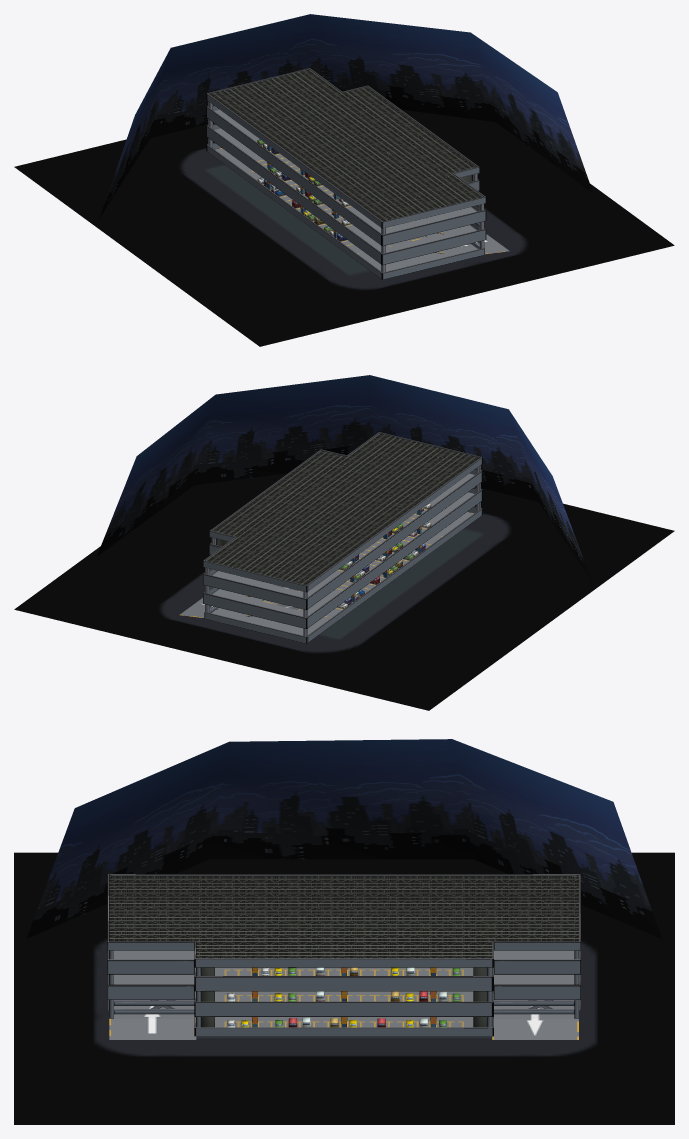
The model's file is corpse2.FBX.
3 renders of one model, top to bottom at view 1: azimuth 30°, elevation 25°; view 2: azimuth 150°, elevation 25°; view 3: azimuth 270°, elevation 25°, orthographic. The views are drawn at different scales.
Visible parts, largest first — view 1: Plane01, sky, floor_04, wall_01, wall_04, wall_02, wall_03, floor_01, floor_02, floor_03; view 2: Plane01, sky, floor_04, wall_01, wall_04, wall_02, wall_03, floor_01, floor_02, floor_03; view 3: Plane01, sky, floor_04, wall_04, wall_01, floor_01, wall_02, floor_02, floor_03, wall_03.
Boxes of the visible parts, x1,y1,x2,y2 form: Plane01: (14,109,674,346); sky: (99,14,593,218); floor_04: (209,69,483,221); wall_01: (206,105,486,246); wall_04: (206,123,486,265); wall_02: (206,68,486,228); wall_03: (206,142,484,279); floor_01: (215,148,509,271); floor_02: (214,128,477,252); floor_03: (214,109,477,233); Plane01: (14,473,674,710); sky: (96,375,591,580); floor_04: (206,433,479,585); wall_01: (203,469,482,609); wall_04: (203,487,482,628); wall_02: (203,432,482,592); wall_03: (204,506,482,643); floor_01: (180,511,473,635); floor_02: (211,492,474,616); floor_03: (211,473,474,597); Plane01: (14,852,674,1124); sky: (26,739,661,938); floor_04: (109,875,578,958); wall_04: (107,974,580,1016); wall_01: (107,950,580,991); floor_01: (109,1000,578,1039); wall_02: (107,874,580,967); floor_02: (114,974,574,1001); floor_03: (114,950,574,975); wall_03: (107,1000,580,1036).
Size of the model in its own units: 137 by 45.47 by 141.
